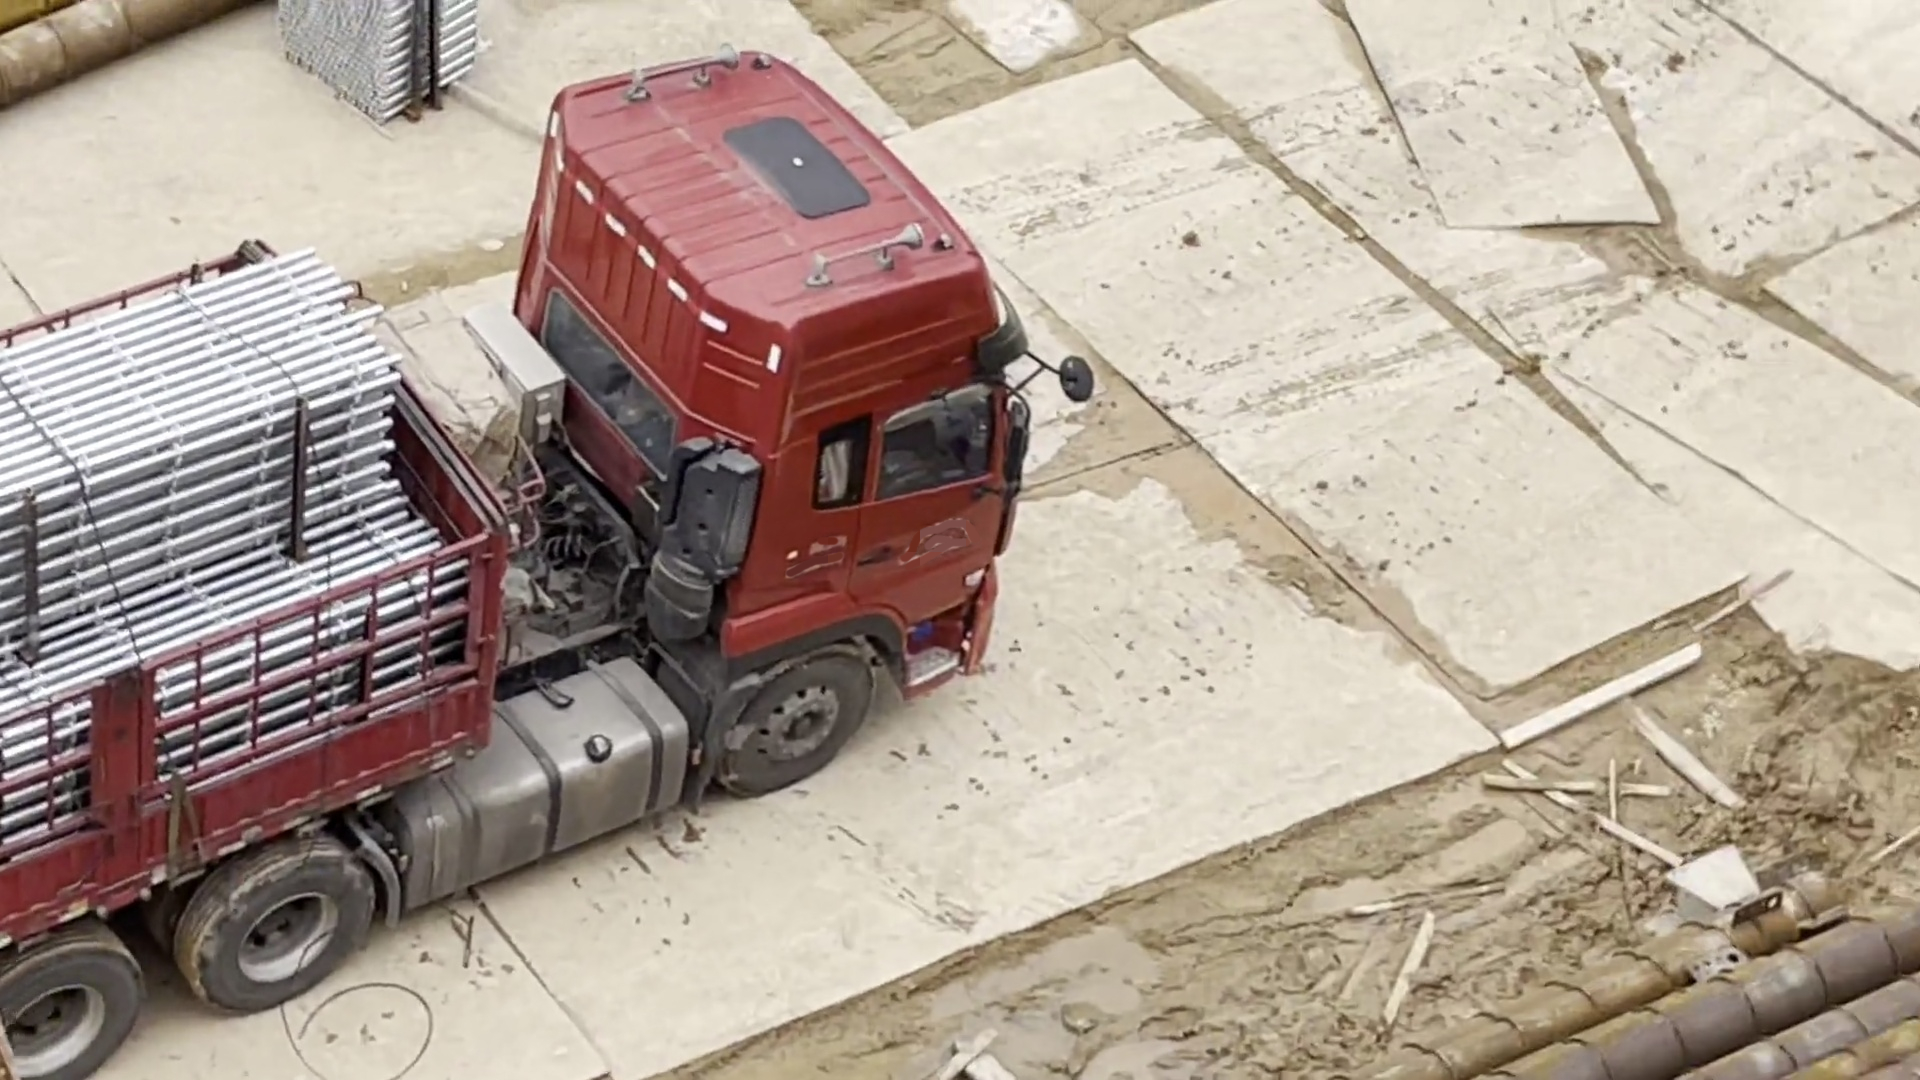scaffold: (1, 262, 465, 847)
